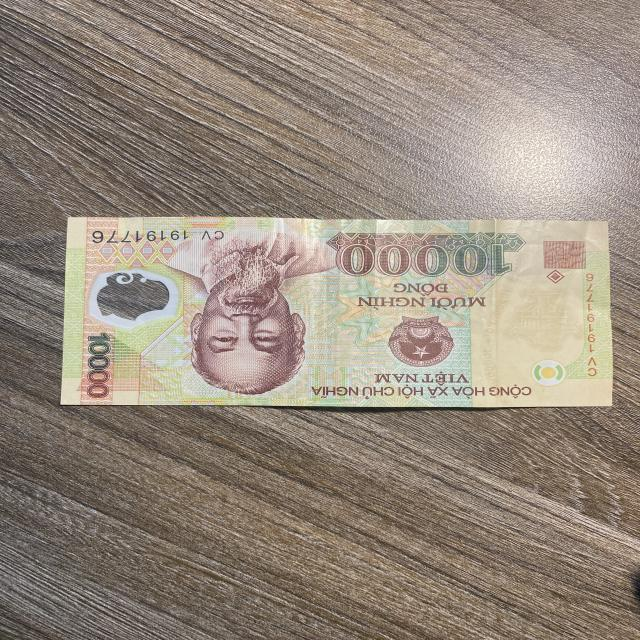10 000 VND: (58, 216, 614, 409)
